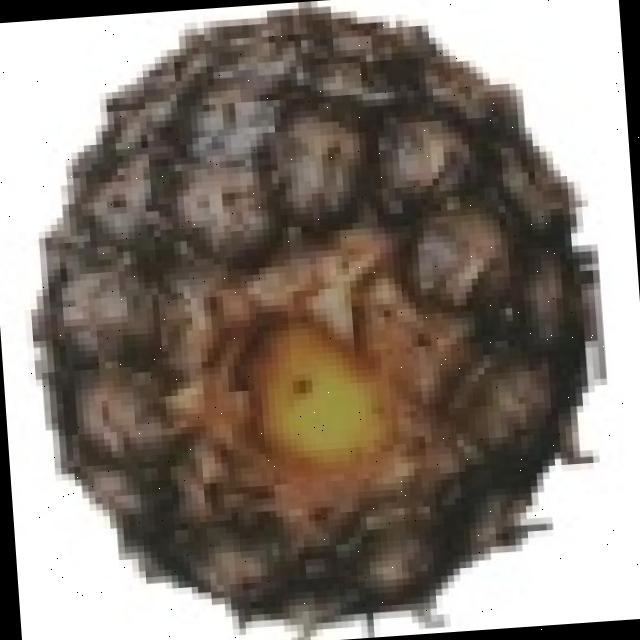pineapple: (24, 6, 573, 609)
